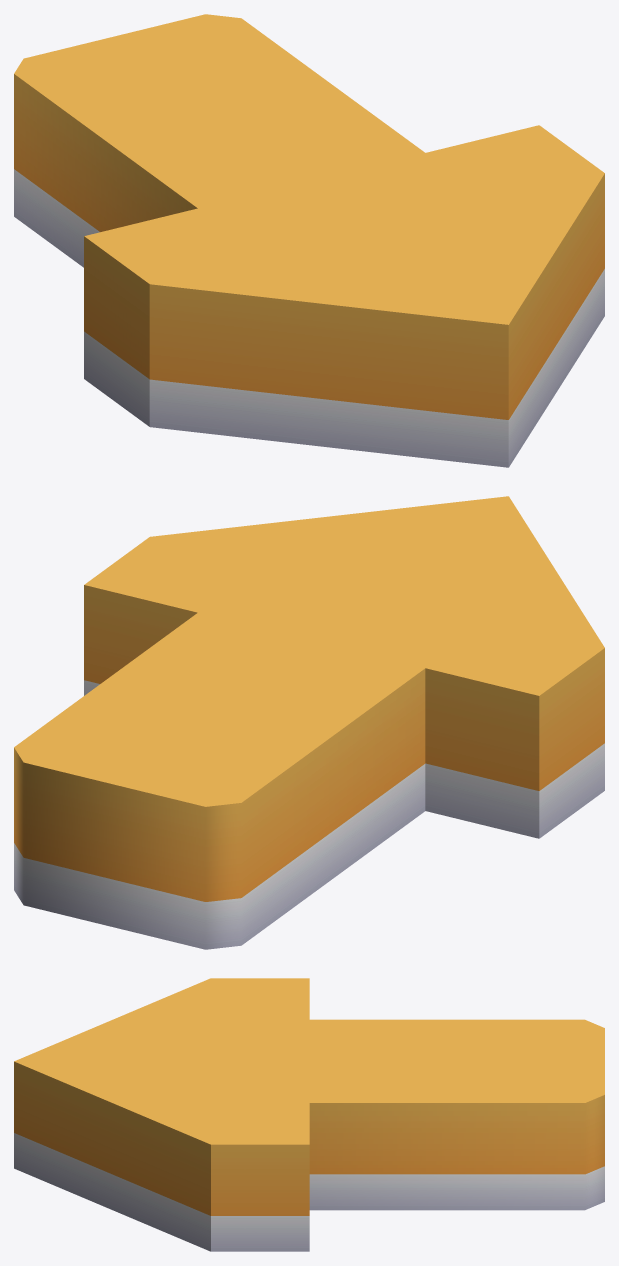
Rendered from arrow.glb.
3 renders of one model, top to bottom at view 1: azimuth 30°, elevation 25°; view 2: azimuth 150°, elevation 25°; view 3: azimuth 270°, elevation 25°, orthographic. The views are drawn at different scales.
Parts seen in each view (by area): view 1: arrow; view 2: arrow; view 3: arrow.
Boxes of the visible parts, left/top/right/bottom form: arrow: left=14, top=14, right=604, bottom=467; arrow: left=14, top=496, right=604, bottom=949; arrow: left=14, top=978, right=604, bottom=1251.
Size of the model in its own units: 2 by 0.5999 by 3.
Materials: 1 (1 with a texture image).
